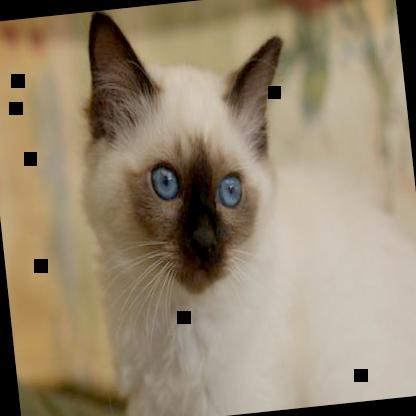cat: (63, 0, 415, 415)
